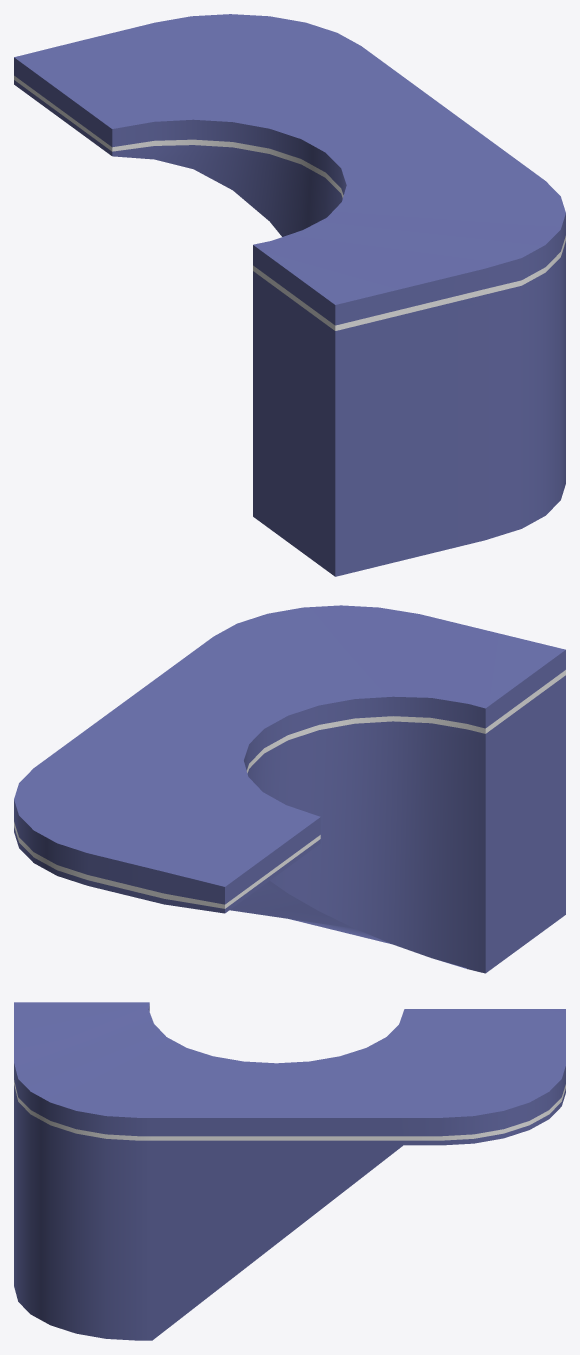
File: sm_jumpStart_06.fbx
The picture shows the model from 3 angles, top to bottom: view 1: azimuth 30°, elevation 25°; view 2: azimuth 150°, elevation 25°; view 3: azimuth 270°, elevation 25°; orthographic projection. The views are drawn at different scales.
Visible parts, largest first — view 1: sm_jumpStart_06; view 2: sm_jumpStart_06; view 3: sm_jumpStart_06.
Part boxes in pixels (left/top/right/bottom): sm_jumpStart_06: left=14, top=14, right=565, bottom=576; sm_jumpStart_06: left=14, top=605, right=565, bottom=973; sm_jumpStart_06: left=14, top=1002, right=565, bottom=1340.
Bounding box in the file's own units: 1180 × 1072 × 2399.
